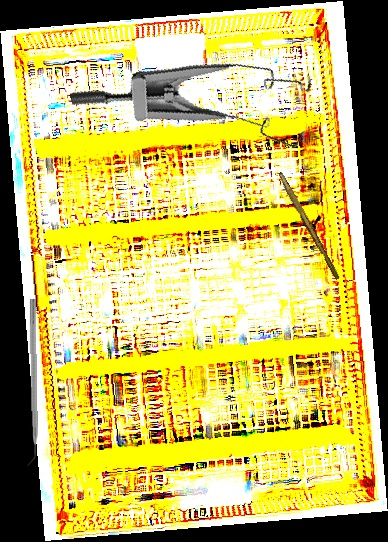Chopper: (20, 298, 39, 467)
Scalpel Handle: (274, 171, 343, 281)
Speculum: (68, 24, 328, 206)
